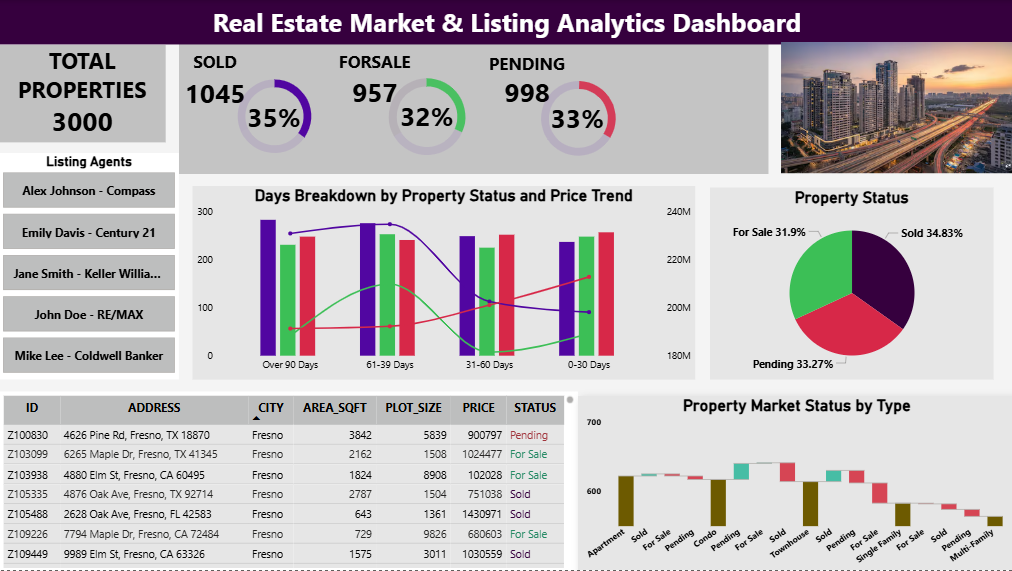

The dashboard page shown, as its layout file describes it:
{"tool":"powerbi","page":{"name":"Page 1","canvas":[1280,720],"ordinal":0},"visuals":[{"type":"shape","box":[226.8,54.8,742.7,164.4],"z":0},{"type":"textbox","box":[0,0,1280.5,56.3],"z":2000},{"type":"card","title":"PENDING","fields":{"Values":["RealEstate.Properties_Pending"]},"box":[599.1,64.3,132.3,79.4],"z":3000},{"type":"card","title":"FORSALE","fields":{"Values":["RealEstate.Properties_ForSale"]},"box":[421.4,62.4,103.9,83.2],"z":4000},{"type":"card","title":"SOLD","fields":{"Values":["RealEstate.Property_Sold"]},"box":[226.8,62.4,90.7,85],"z":5000},{"type":"card","fields":{"Values":["RealEstate.%_Property_Sold"]},"box":[296.5,112.6,99.4,66.3],"z":6000},{"type":"card","fields":{"Values":["RealEstate.%_Property_ForSale"]},"box":[487,119.3,102.7,53],"z":7000},{"type":"card","fields":{"Values":["RealEstate.%_Property_Pending"]},"box":[680.8,122.6,96.1,49.7],"z":8000},{"type":"donutChart","fields":{"Category":["RealEstate.status"],"Y":["CountNonNull(RealEstate.status)"]},"box":[258.4,82.8,175.6,125.9],"z":9000},{"type":"donutChart","fields":{"Category":["RealEstate.status"],"Y":["CountNonNull(RealEstate.status)"]},"box":[662.6,84.5,132.5,127.5],"z":10000},{"type":"donutChart","fields":{"Category":["RealEstate.status"],"Y":["CountNonNull(RealEstate.status)"]},"box":[460.5,81.2,155.7,130.9],"z":11000},{"type":"lineClusteredColumnComboChart","title":"Days Breakdown by Property Status and Price Trend","fields":{"Category":["RealEstate.Days_On_Market_Category"],"Y":["RealEstate.Property_Sold","RealEstate.Properties_ForSale","RealEstate.Properties_Pending"],"Y2":["RealEstate.Total_Sold_Price","RealEstate.Total_Sale_Price","RealEstate.Total_Pending_Price"]},"box":[243.8,234.3,633.1,243.8],"z":12000},{"type":"tableEx","fields":{"Values":["RealEstate.mls_id","RealEstate.address","RealEstate.city","RealEstate.area_sqft","RealEstate.lot_size","RealEstate.price","RealEstate.status"]},"box":[0,493.6,728.9,226.9],"z":13000},{"type":"waterfallChart","title":"Property Market Status by Type","fields":{"Category":["RealEstate.property_type"],"Breakdown":["RealEstate.status"],"Y":["CountNonNull(RealEstate.status)"]},"box":[728.9,498.6,551.6,222],"z":14000},{"type":"advancedSlicerVisual","title":"Listing Agents","fields":{"Values":["RealEstate.listing_agent"]},"box":[0,192.8,226.8,285.4],"z":15000},{"type":"card","title":"TOTAL PROPERTIES","fields":{"Values":["RealEstate.Total_Properties"]},"box":[0,56.7,209.8,122.8],"z":15500},{"type":"pieChart","title":"Property Status","fields":{"Category":["RealEstate.status"],"Y":["RealEstate.Total_Properties"]},"box":[895.8,236.2,357.2,241.9],"z":16000},{"type":"image","box":[983.9,53,296.5,165.6],"z":17000}]}

Visuals, with their boxes in screenshot pixels (x1, y1, x2, y2), scaled from the page's 1280x720 canvas onto the 1012x571 screenshot:
shape: (179,43,767,174)
textbox: (0,0,1011,45)
"PENDING" card: (474,51,578,114)
"FORSALE" card: (333,49,415,115)
"SOLD" card: (179,49,251,117)
card - RealEstate.%_Property_Sold: (234,89,313,142)
card - RealEstate.%_Property_ForSale: (385,95,466,137)
card - RealEstate.%_Property_Pending: (538,97,614,137)
donutChart - RealEstate.status x CountNonNull(RealEstate.status): (204,66,343,166)
donutChart - RealEstate.status x CountNonNull(RealEstate.status): (524,67,629,168)
donutChart - RealEstate.status x CountNonNull(RealEstate.status): (364,64,487,168)
"Days Breakdown by Property Status and Price Trend" lineClusteredColumnComboChart: (193,186,693,379)
tableEx - RealEstate.mls_id x RealEstate.address: (0,391,576,570)
"Property Market Status by Type" waterfallChart: (576,395,1011,570)
"Listing Agents" advancedSlicerVisual: (0,153,179,379)
"TOTAL PROPERTIES" card: (0,45,166,142)
"Property Status" pieChart: (708,187,991,379)
image: (778,42,1011,173)
